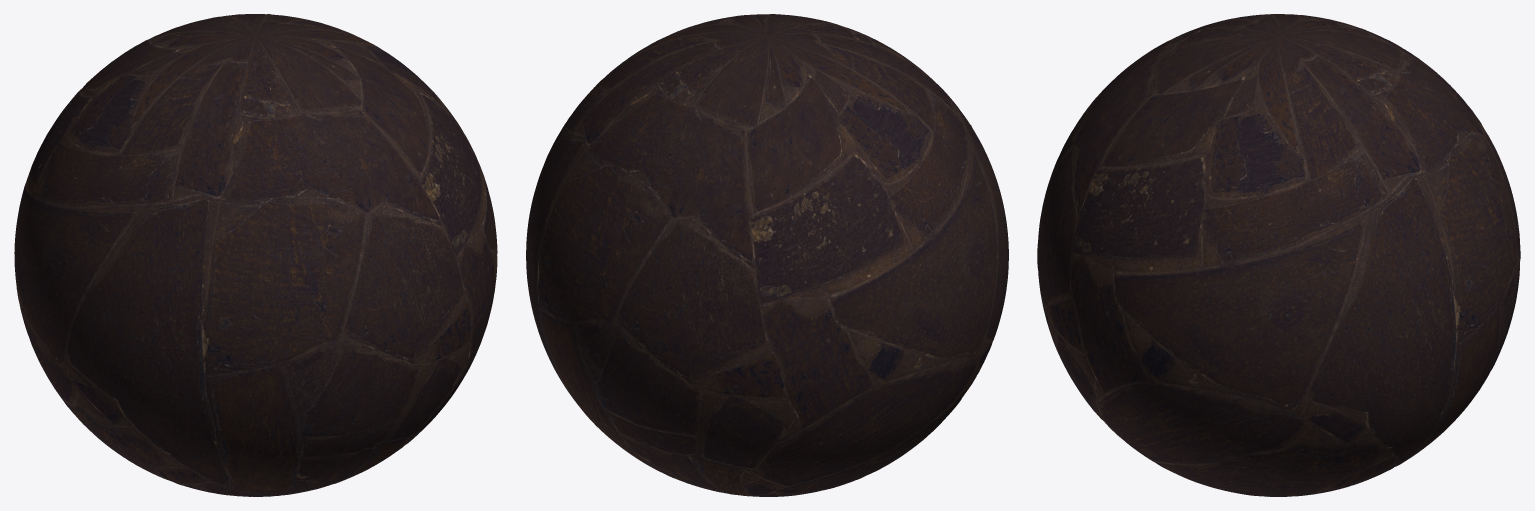
The model's file is slate_floor_1k.gltf.
The picture shows the model from 3 angles, left to right: view 1: azimuth 30°, elevation 25°; view 2: azimuth 150°, elevation 25°; view 3: azimuth 270°, elevation 25°; orthographic projection.
Parts seen in each view (by area): view 1: sphere_gltf; view 2: sphere_gltf; view 3: sphere_gltf.
Boxes of the visible parts, x1,y1,x2,y2 form: sphere_gltf: (14, 14, 497, 496); sphere_gltf: (526, 14, 1008, 496); sphere_gltf: (1037, 14, 1520, 496).
Bounding box in the file's own units: 2.29 × 2.29 × 2.3.
Materials: 1 (1 with a texture image).
